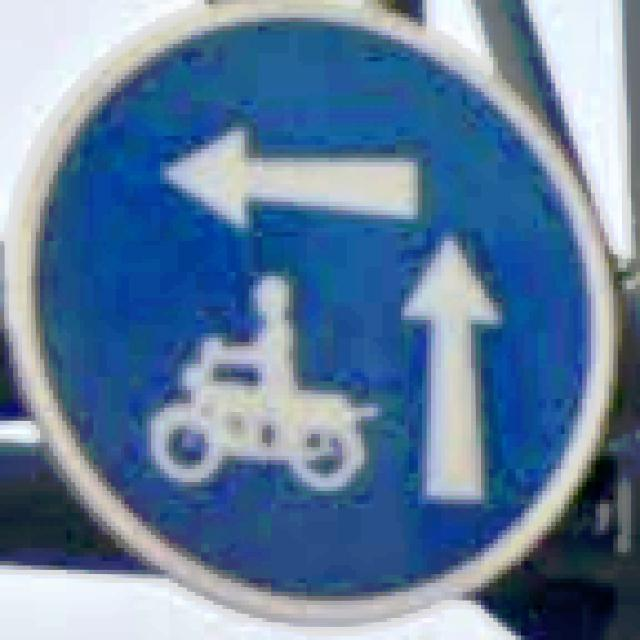twostageturn: (4, 0, 622, 622)
